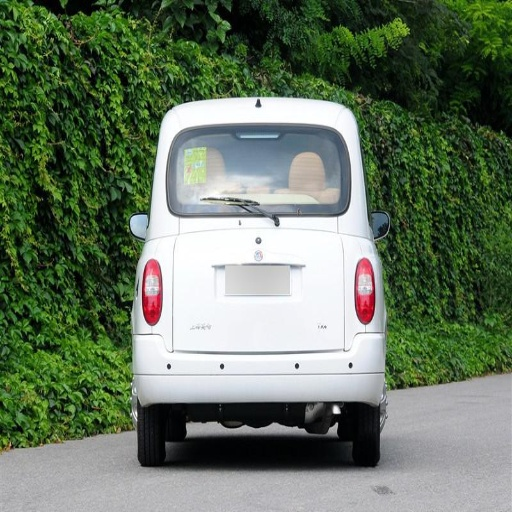back_bumper: (131, 323, 381, 407)
trunk: (140, 216, 361, 352)
